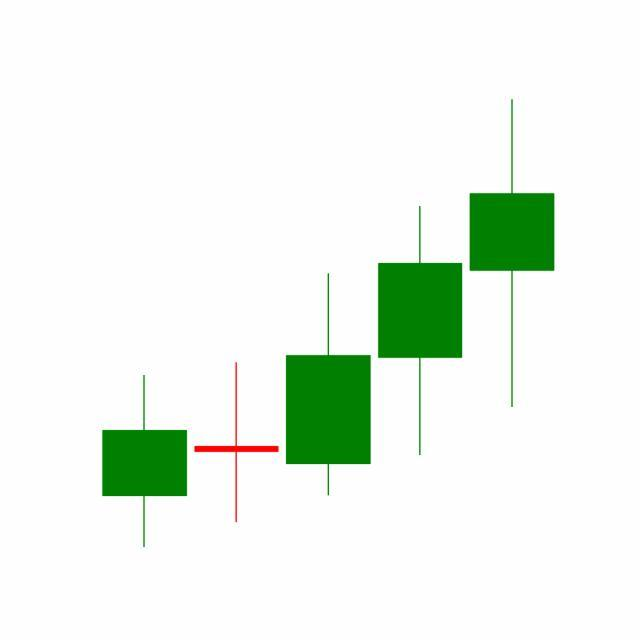Three Outside Up-Down: (190, 203, 467, 527)
